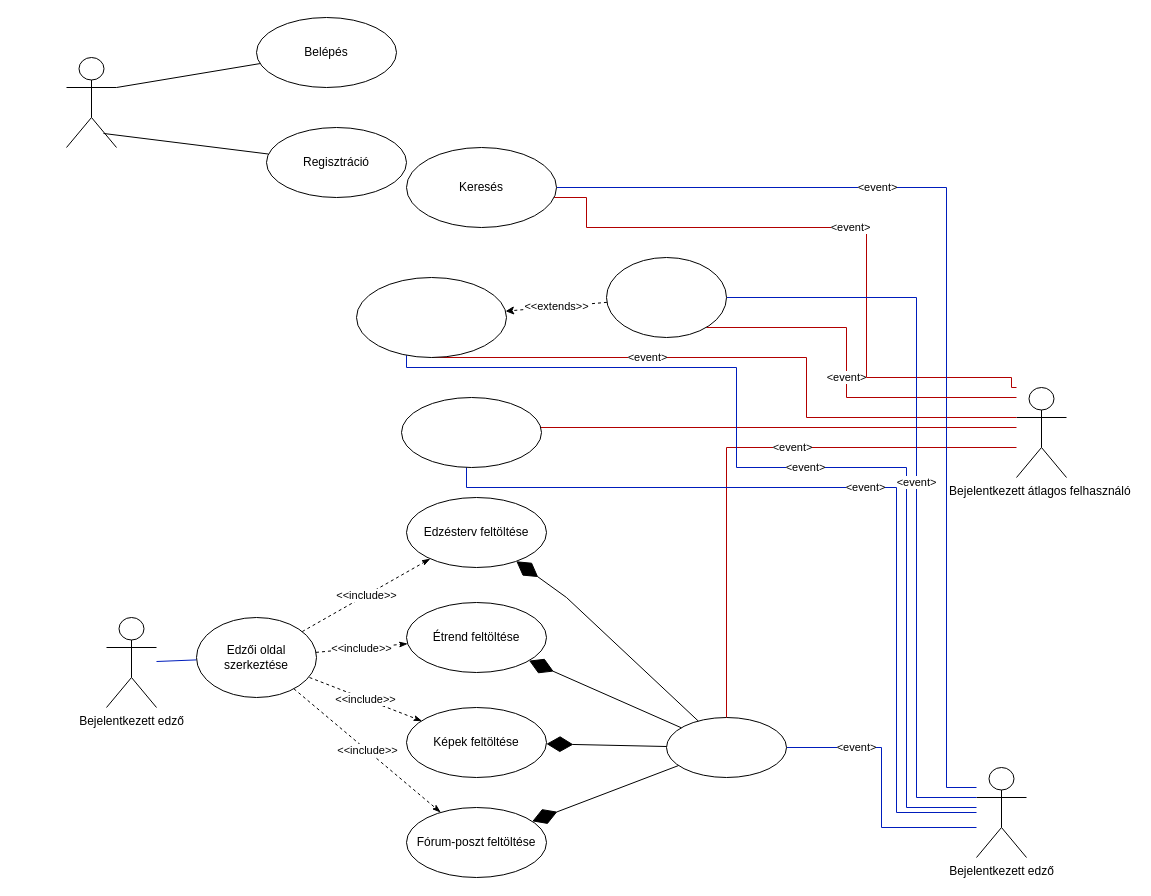
Some shapes in this 1151 by 896 pixel diagram are drawn without their labels. Each missing label, with the box of its shape:
Hozzzsászólás írása: (606, 256, 726, 338)
Megtekintés: (666, 716, 786, 778)
Nem bejelentkezett látogató: (66, 56, 116, 148)
Értékel: (356, 276, 506, 358)
Üzenetet küldése: (400, 396, 542, 468)
